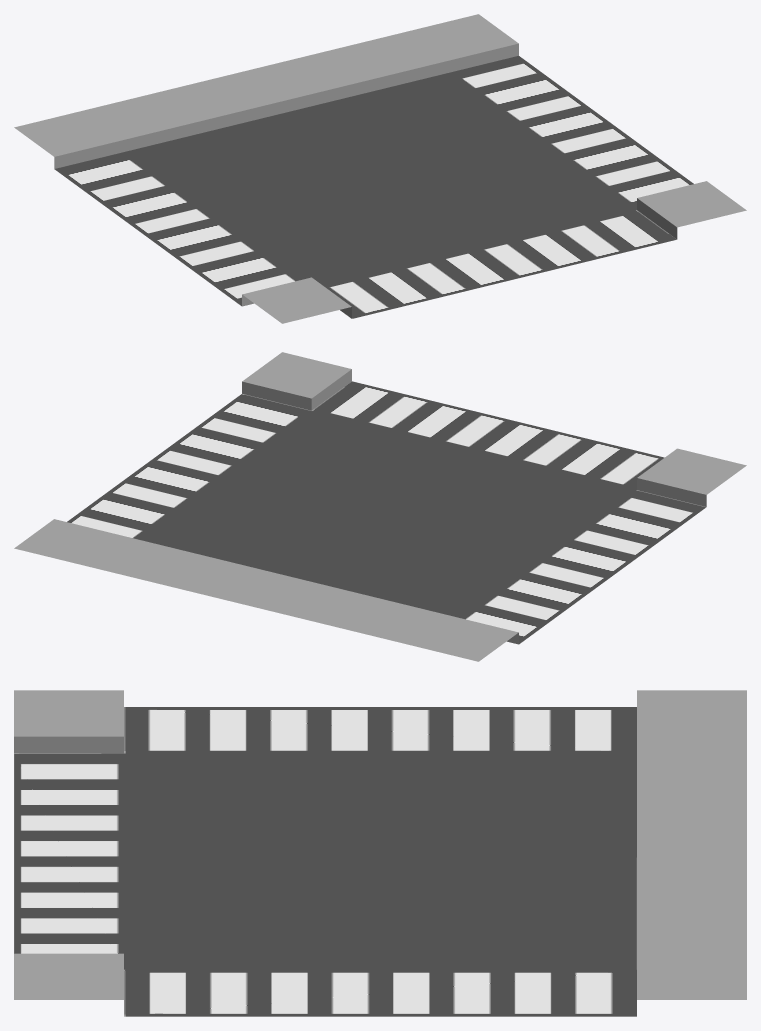
The model's file is Road-7.obj.
The picture shows the model from 3 angles, top to bottom: view 1: azimuth 30°, elevation 25°; view 2: azimuth 150°, elevation 25°; view 3: azimuth 270°, elevation 25°; orthographic projection. The views are drawn at different scales.
Visible parts, largest first — view 1: Plane.002; view 2: Plane.002; view 3: Plane.002.
Boxes of the visible parts, x1,y1,x2,y2 form: Plane.002: (14,14,746,323); Plane.002: (14,352,746,661); Plane.002: (14,690,746,1016).
Size of the model in its own units: 20 by 0.5 by 20.
